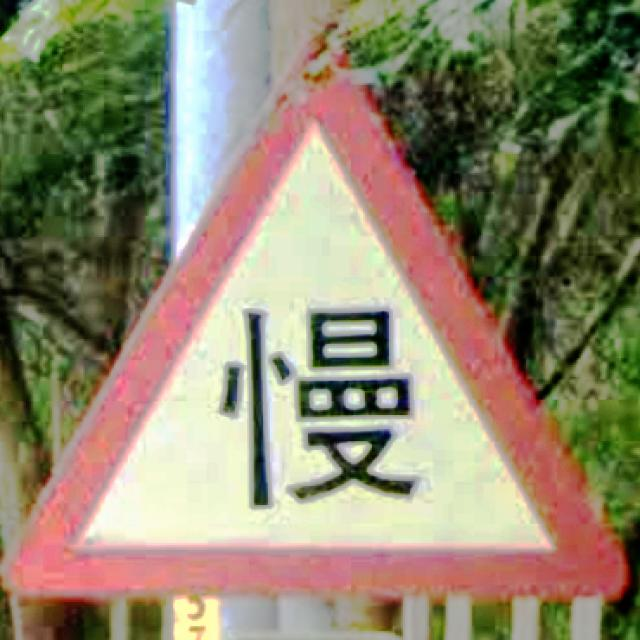slow: (5, 38, 630, 605)
